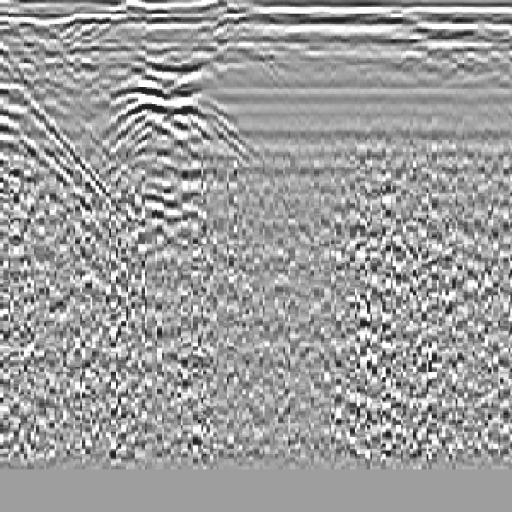metalic: (76, 32, 278, 302)
